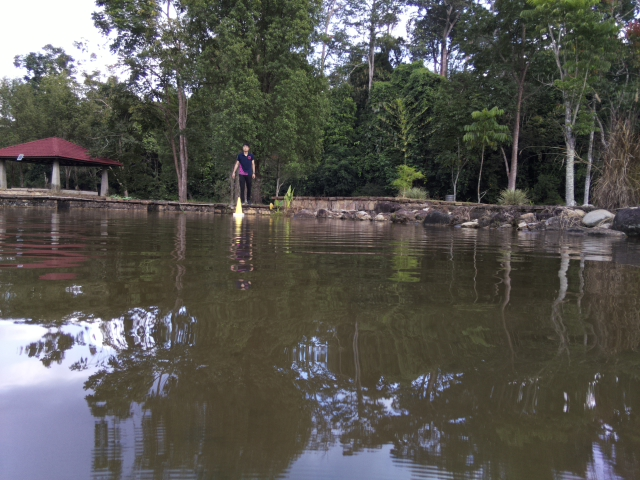checkpoint: (231, 196, 244, 217)
